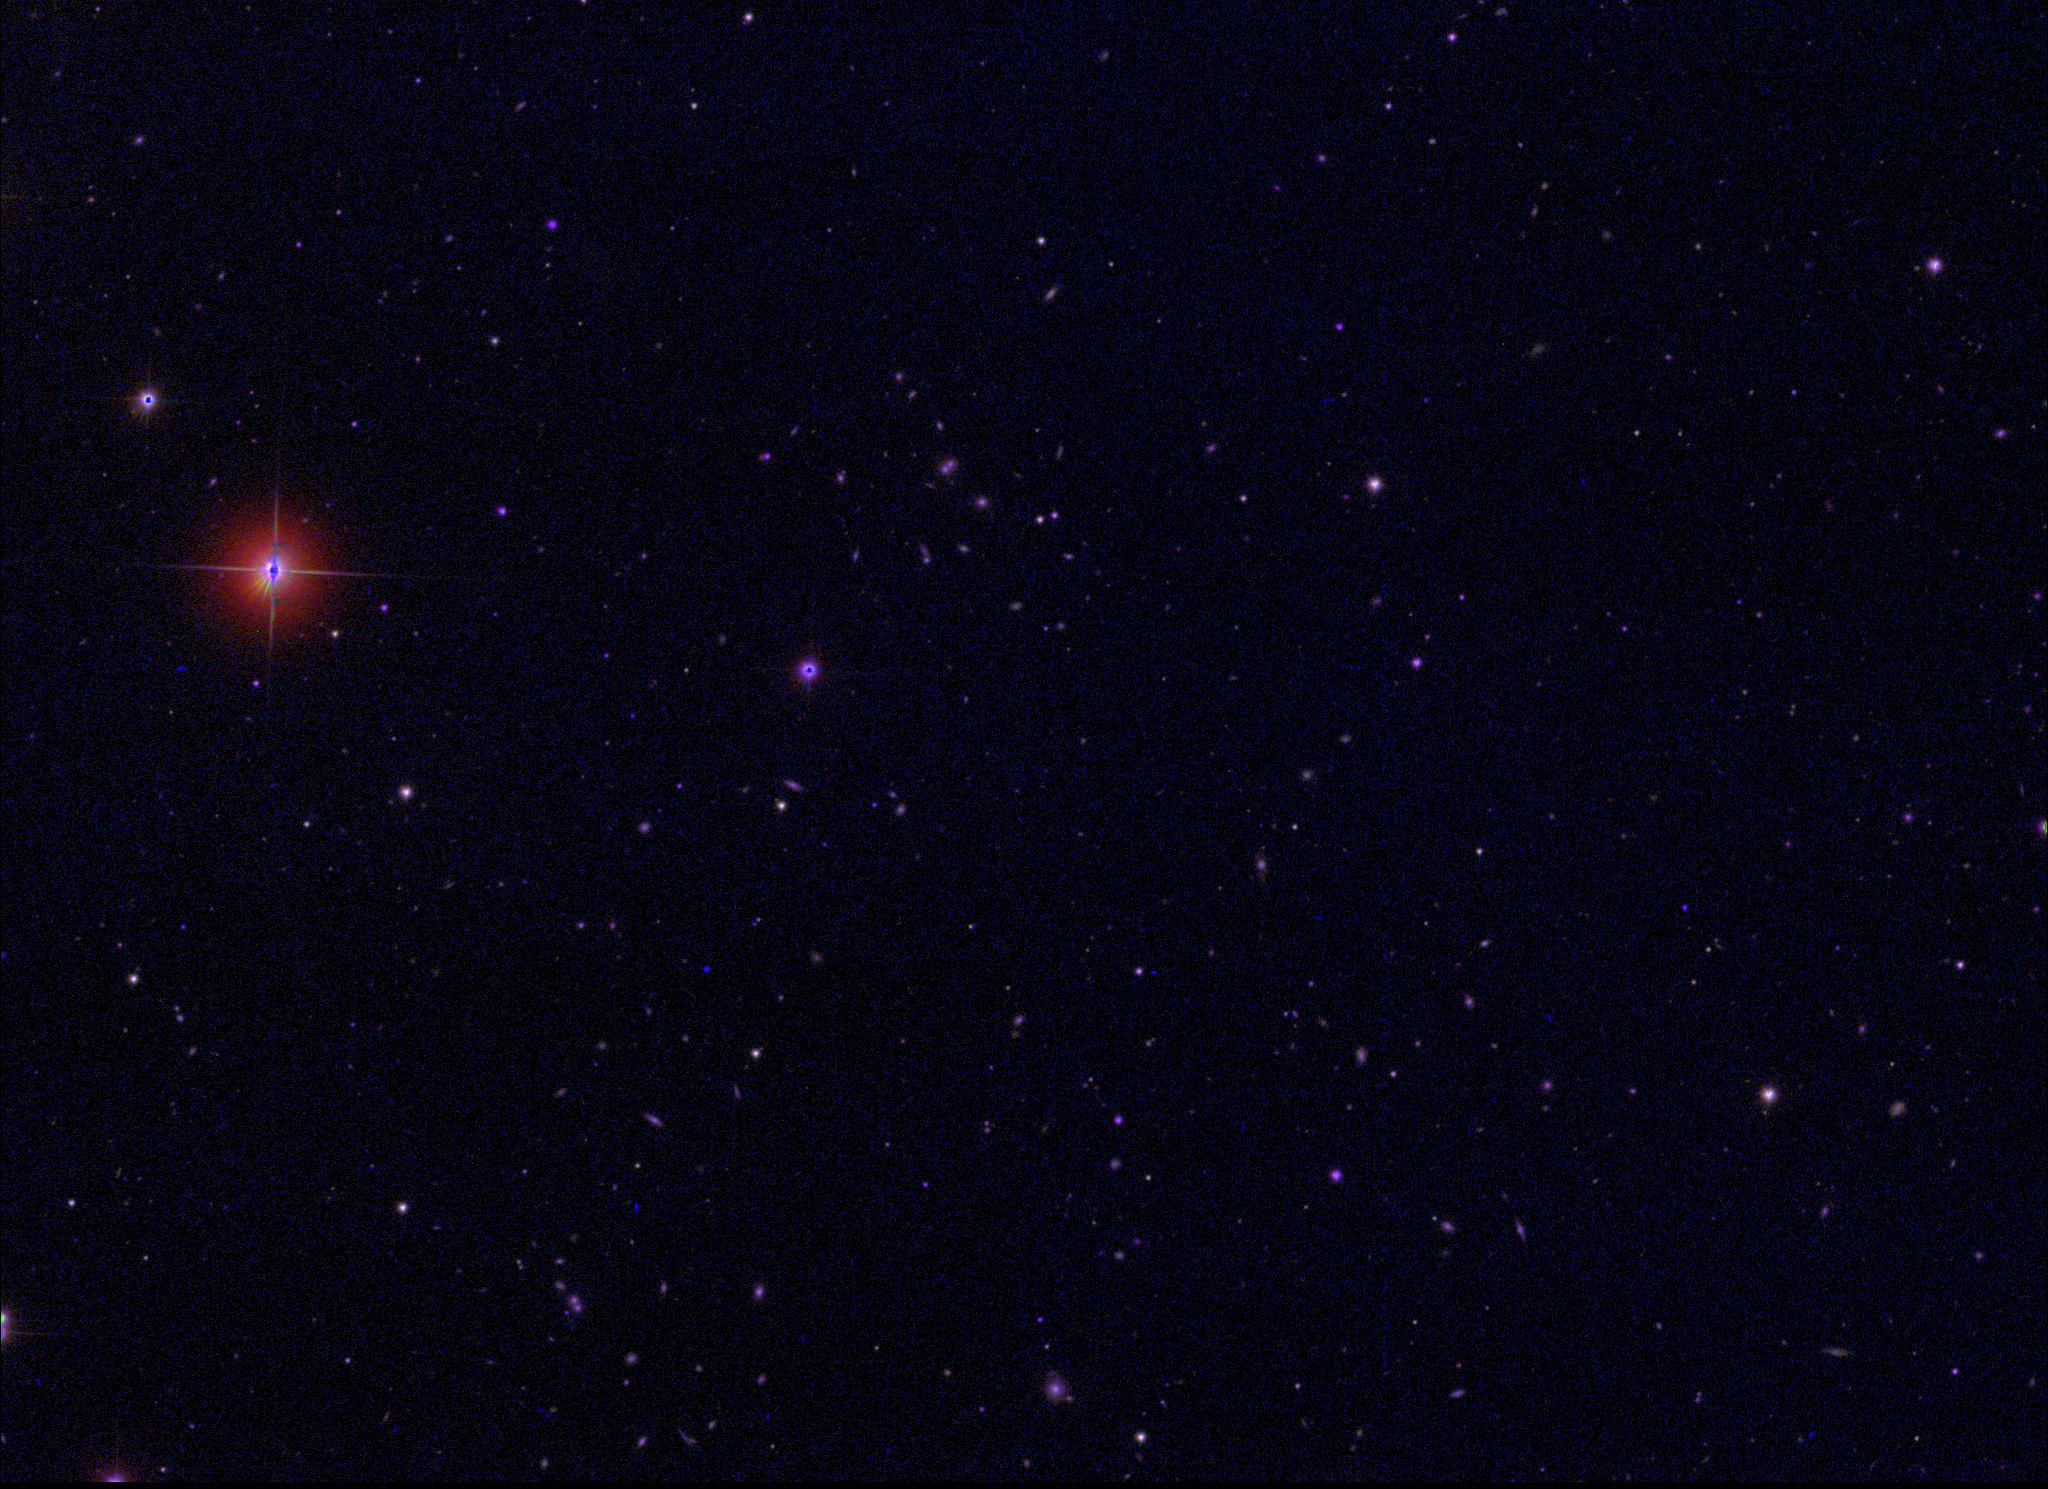L: (698, 961, 712, 975)
